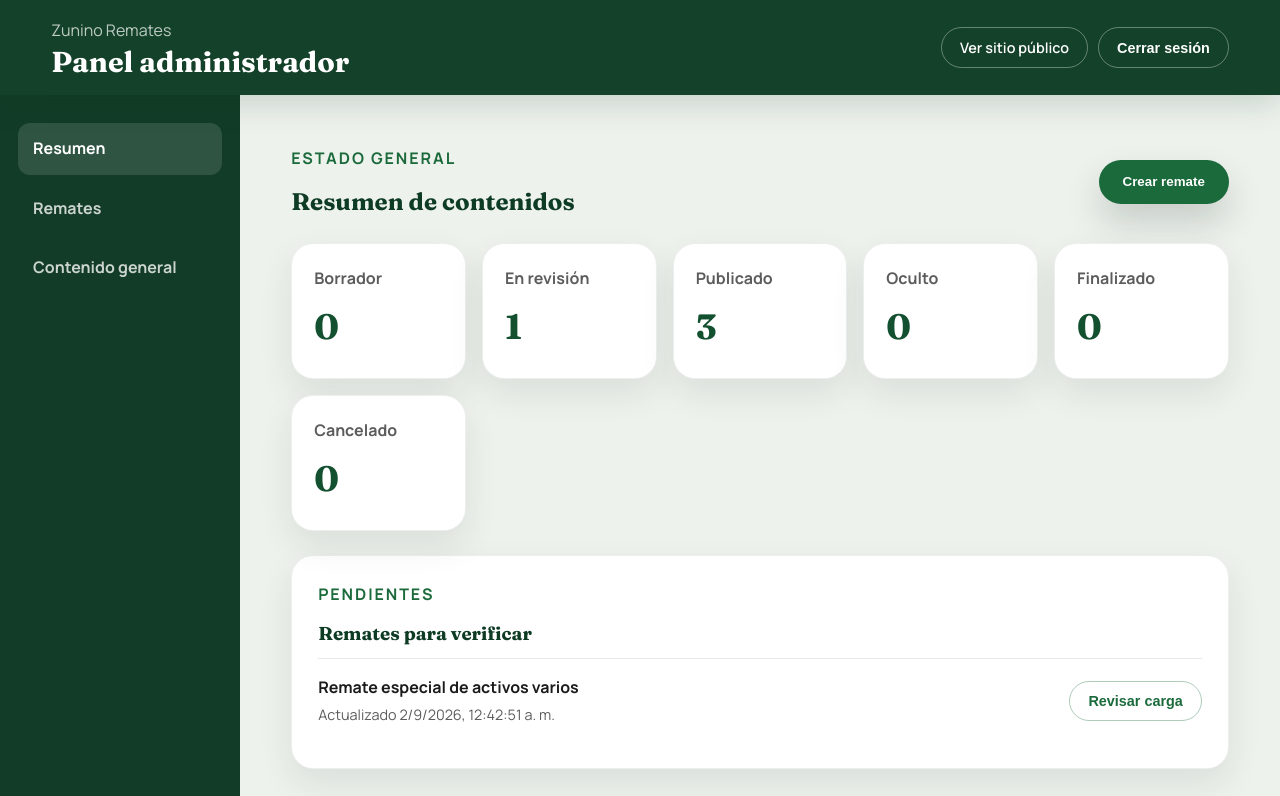
Test: panel administrador › bloquea la publicación de la precarga mientras falten datos obligatorios
Click the button "Remates".
click(120, 209)  # box [18,183,222,234]
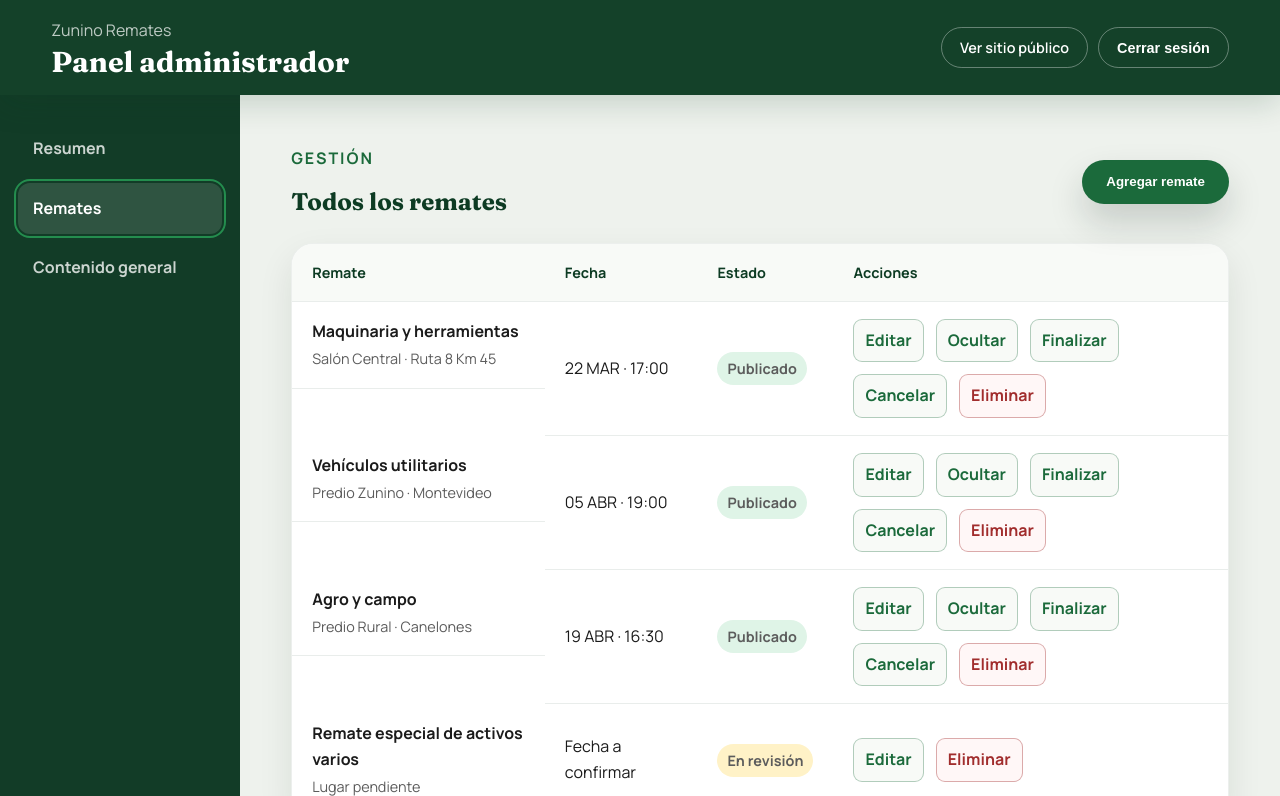
Expected: the text "Remate especial de activos varios" is shown, [312,722,523,770]
Click the button "Editar" in the row of "Remate especial de activos varios".
click(889, 760)  # box [854,738,924,782]
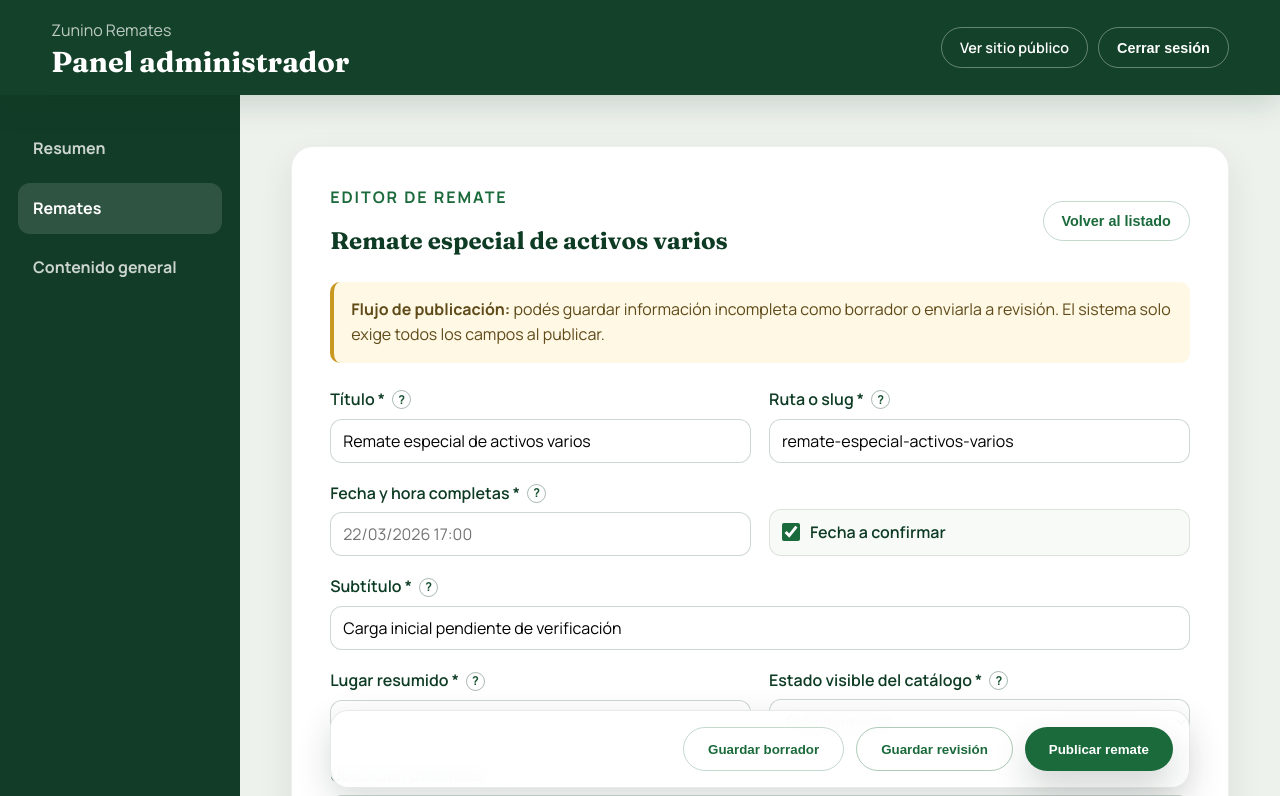
Click the button "Publicar remate".
click(1099, 749)  # box [1025,727,1173,771]
(page scrolled)
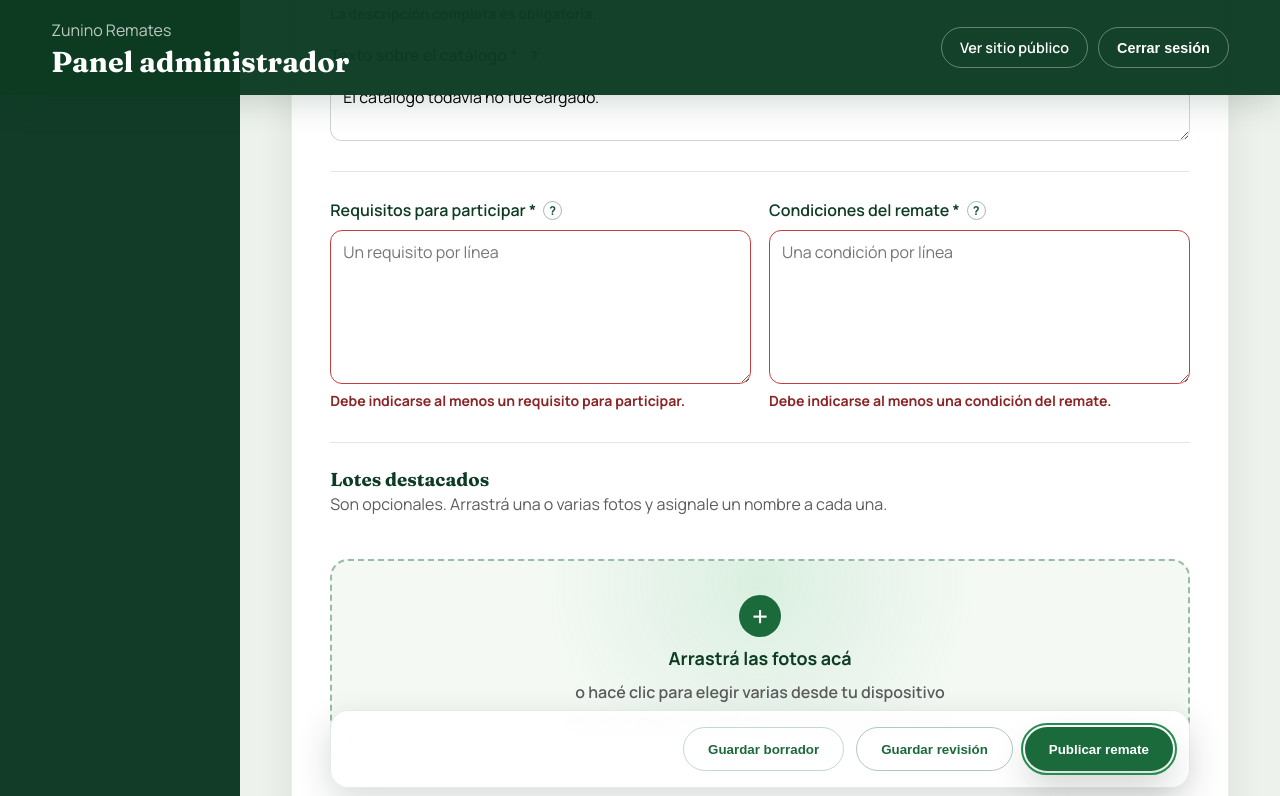
Expected: the text "Debe indicarse al menos un requisito para participar." is shown, [330,391,685,410]
